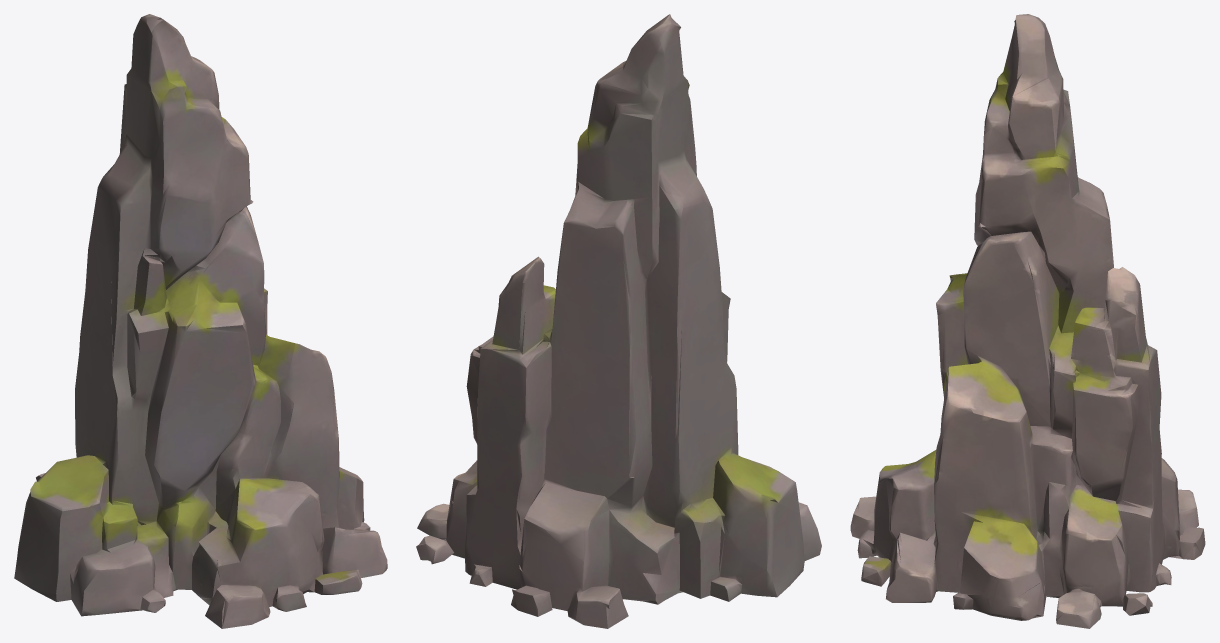
Rendered from rock_spire.glb.
3 views of the same model, side by side, from view 1: azimuth 30°, elevation 25°; view 2: azimuth 150°, elevation 25°; view 3: azimuth 270°, elevation 25° (orthographic). The views are drawn at different scales.
Visible parts, largest first — view 1: body; view 2: body; view 3: body.
Boxes of the visible parts, left/top/right/bottom form: body: left=14, top=14, right=387, bottom=628; body: left=416, top=14, right=821, bottom=628; body: left=850, top=14, right=1205, bottom=628.
Size of the model in its own units: 1.45 by 2.2 by 1.37.
1 material, 1 textured.
